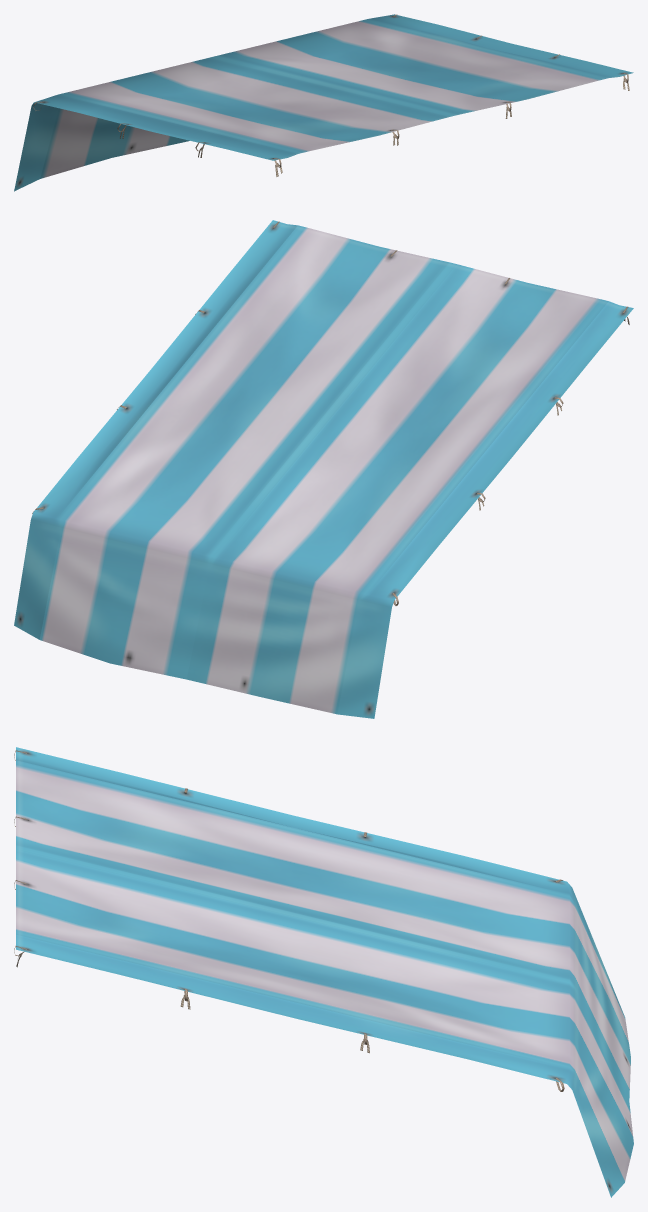
Rendered from jsf_Ceiling_s01_c02_t02.fbx.
3 views of the same model, one above another, from view 1: azimuth 30°, elevation 25°; view 2: azimuth 150°, elevation 25°; view 3: azimuth 270°, elevation 25° (orthographic). The views are drawn at different scales.
Visible parts, largest first — view 1: jsf_Ceiling_s01_c02_t02; view 2: jsf_Ceiling_s01_c02_t02; view 3: jsf_Ceiling_s01_c02_t02.
Boxes of the visible parts, <box> form: jsf_Ceiling_s01_c02_t02: <box>14,14,633,191</box>; jsf_Ceiling_s01_c02_t02: <box>14,220,633,718</box>; jsf_Ceiling_s01_c02_t02: <box>14,747,633,1197</box>.
Size of the model in its own units: 184 by 106 by 234.
